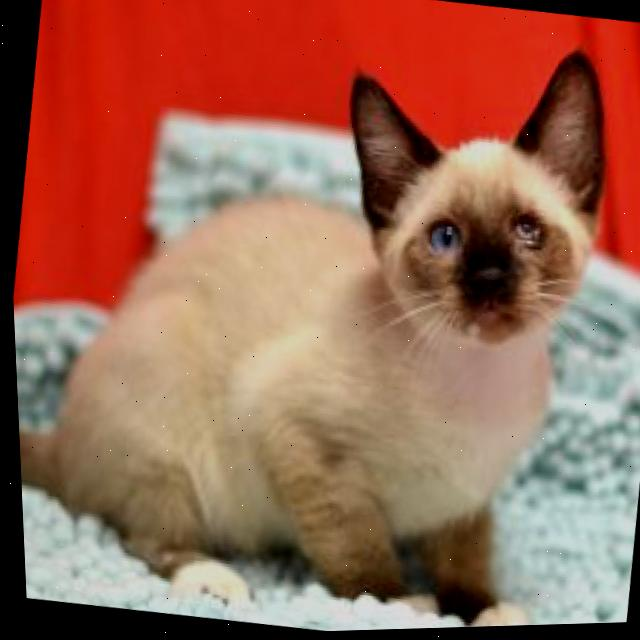Siamese: (0, 0, 638, 640)
